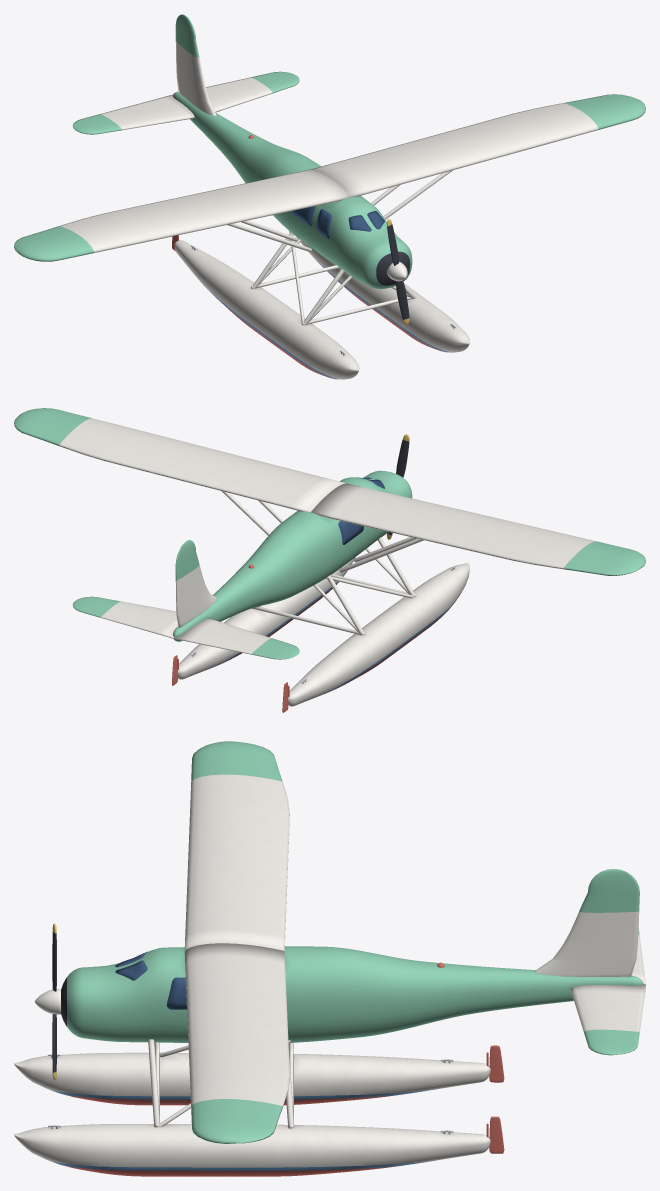
File: seaplane.glb
3 views of the same model, one above another, from view 1: azimuth 30°, elevation 25°; view 2: azimuth 150°, elevation 25°; view 3: azimuth 270°, elevation 25° (orthographic). The views are drawn at different scales.
Visible parts, largest first — view 1: seaplane_body, seaplane_windows, seaplane_propeller; view 2: seaplane_body, seaplane_windows; view 3: seaplane_body, seaplane_propeller, seaplane_windows.
Boxes of the visible parts, <box> form: seaplane_body: <box>14,14,645,379</box>; seaplane_windows: <box>290,206,384,238</box>; seaplane_propeller: <box>386,219,409,324</box>; seaplane_body: <box>14,408,645,706</box>; seaplane_windows: <box>338,477,384,544</box>; seaplane_body: <box>14,741,645,1176</box>; seaplane_propeller: <box>34,923,60,1080</box>; seaplane_windows: <box>115,951,186,1009</box>.
Bounding box in the file's own units: 15.21 × 4.77 × 10.14.
Materials: 7 (1 with a texture image).
